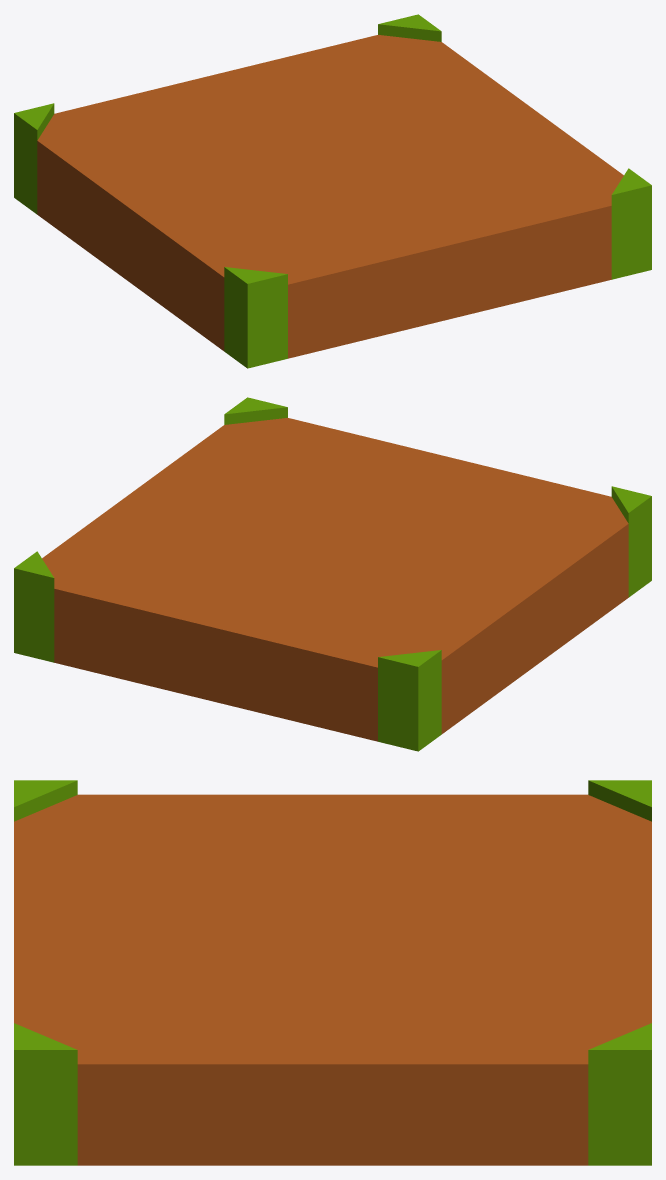
File: TileGround_13.fbx
3 renders of one model, top to bottom at view 1: azimuth 30°, elevation 25°; view 2: azimuth 150°, elevation 25°; view 3: azimuth 270°, elevation 25°, orthographic. The views are drawn at different scales.
Visible parts, largest first — view 1: TileGround_13; view 2: TileGround_13; view 3: TileGround_13.
Part boxes in pixels (x1=…): TileGround_13: x1=14, y1=14, x2=651, y2=368; TileGround_13: x1=14, y1=397, x2=651, y2=751; TileGround_13: x1=14, y1=780, x2=651, y2=1165.
Bounding box in the file's own units: 500 × 100 × 500.
